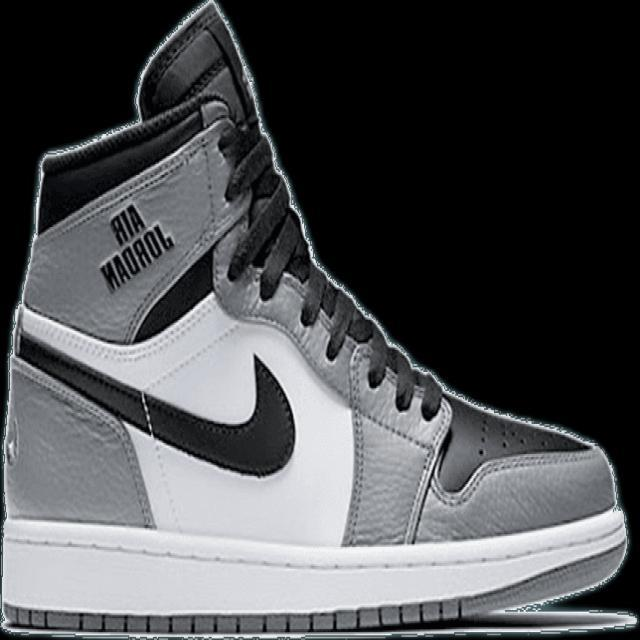J1_InsoleChar: (0, 0, 633, 636)
J1_ShoeLogo: (96, 201, 176, 293), (107, 201, 148, 247)
J1_StitchPattern: (135, 7, 447, 429), (223, 153, 444, 425), (12, 327, 298, 478), (228, 178, 378, 363), (340, 342, 452, 547), (294, 269, 442, 418), (4, 599, 465, 634), (223, 139, 312, 299), (343, 342, 448, 449), (401, 407, 454, 546), (296, 271, 375, 361), (341, 342, 369, 546), (228, 182, 288, 274), (258, 210, 309, 297), (355, 598, 463, 629)
